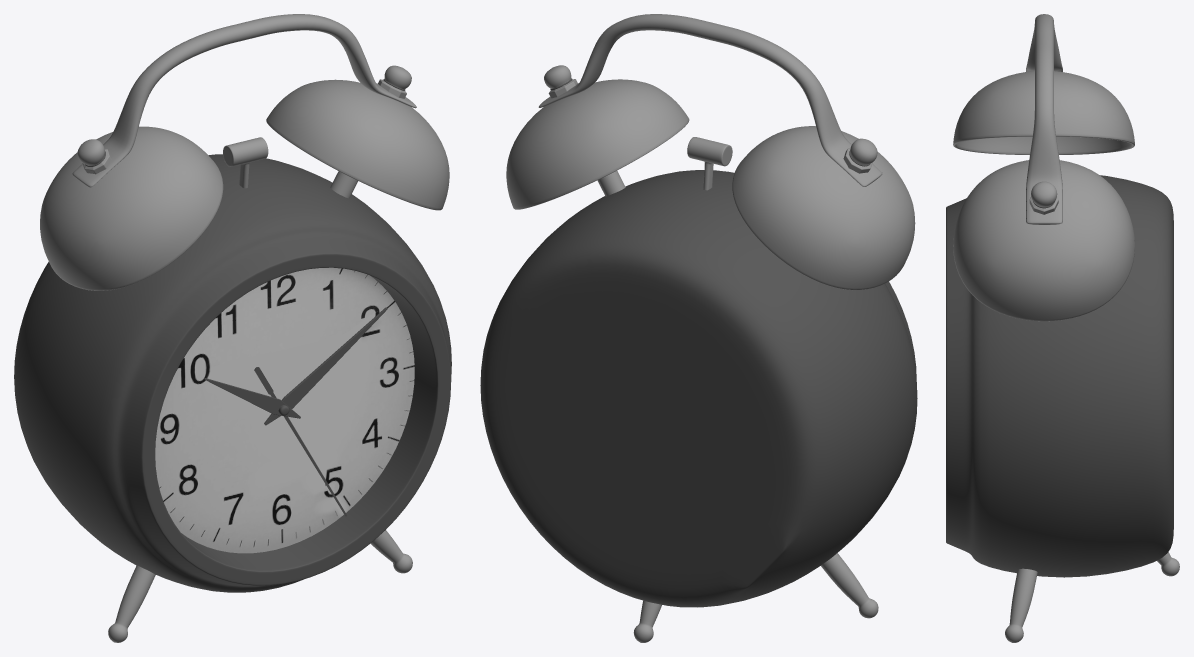
Rendered from uploads_files_5748196_GLB.glb.
3 views of the same model, side by side, from view 1: azimuth 30°, elevation 25°; view 2: azimuth 150°, elevation 25°; view 3: azimuth 270°, elevation 25° (orthographic). The views are drawn at different scales.
Visible parts, largest first — view 1: Model; view 2: Model; view 3: Model.
Boxes of the visible parts, <box> form: Model: <box>14,14,451,642</box>; Model: <box>480,14,917,642</box>; Model: <box>946,14,1179,642</box>.
Size of the model in its own units: 3.22 by 4.63 by 1.82.
Materials: 3 (1 with a texture image).
